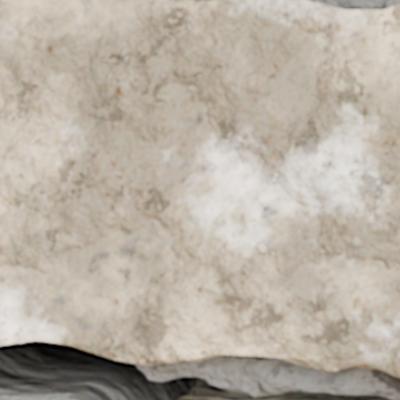brick: (0, 0, 399, 376)
crack: (0, 340, 397, 399)
